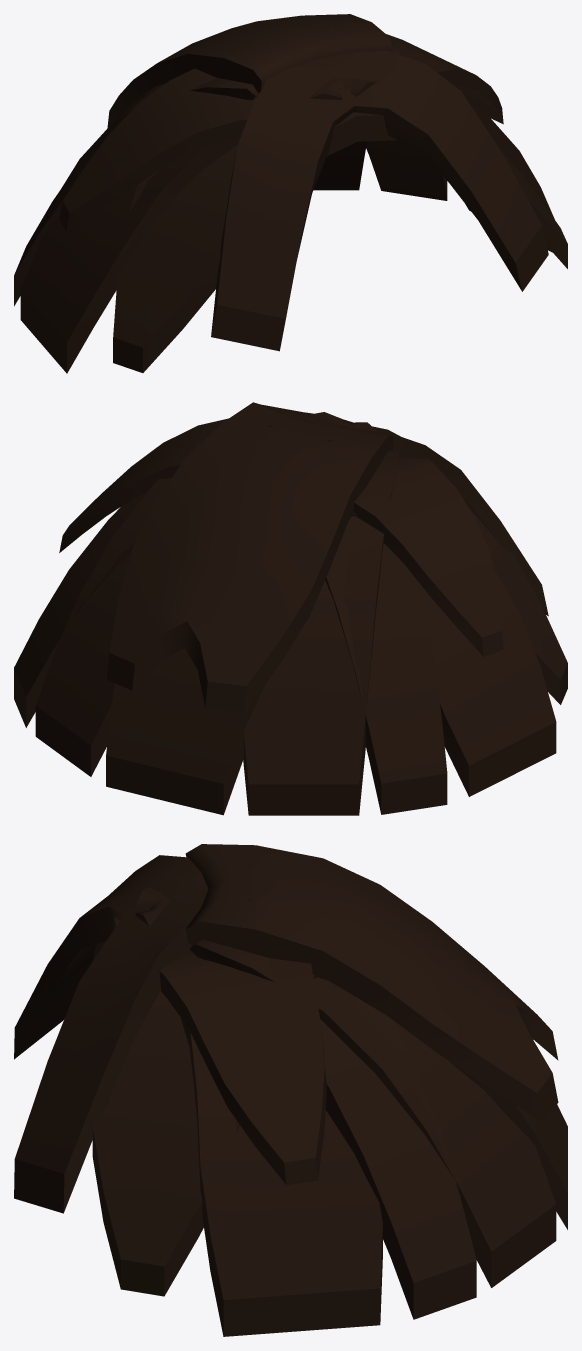
The model's file is hair04.FBX.
3 renders of one model, top to bottom at view 1: azimuth 30°, elevation 25°; view 2: azimuth 150°, elevation 25°; view 3: azimuth 270°, elevation 25°, orthographic. The views are drawn at different scales.
Parts seen in each view (by area): view 1: dathairdo; view 2: dathairdo; view 3: dathairdo.
Part boxes in pixels (left/top/right/bottom): dathairdo: left=14, top=14, right=567, bottom=373; dathairdo: left=14, top=402, right=567, bottom=815; dathairdo: left=14, top=844, right=567, bottom=1336.
Bounding box in the file's own units: 95.04 × 50.26 × 79.47.
